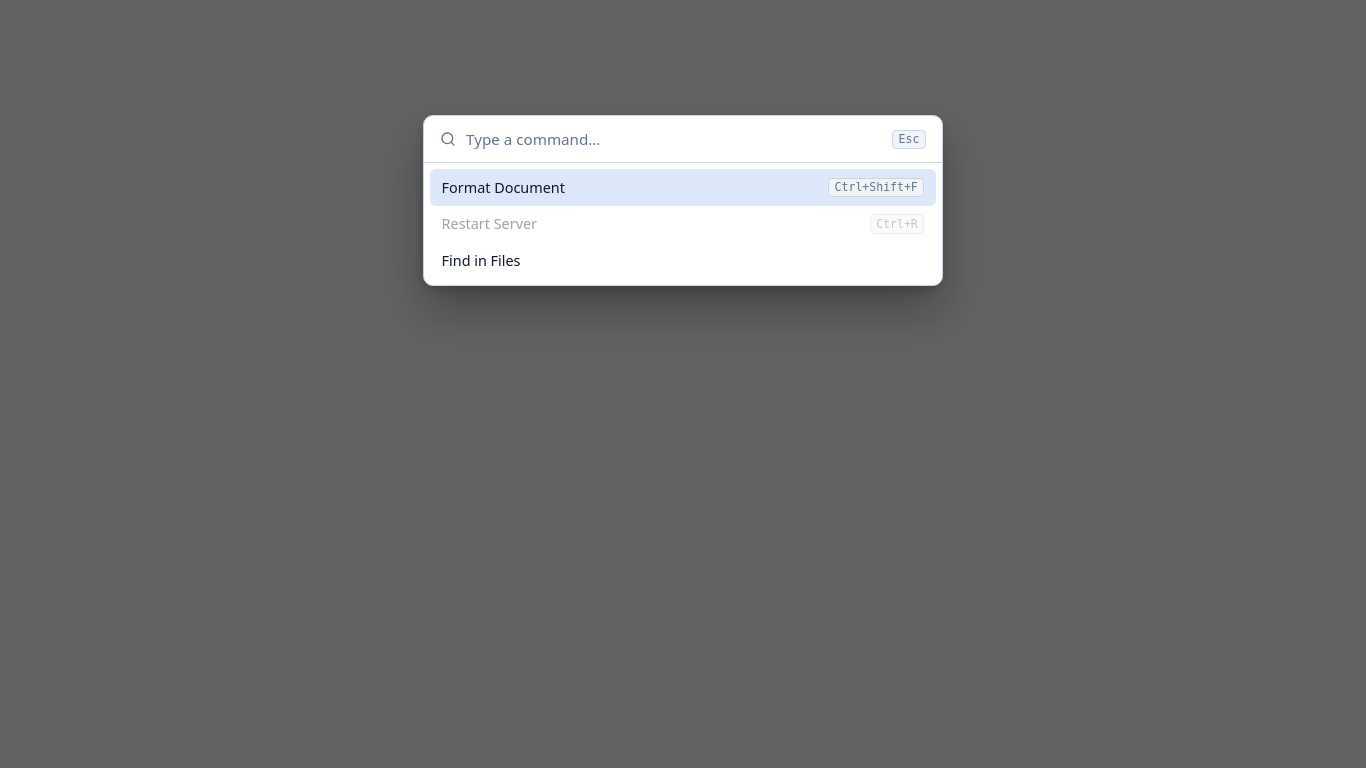
Test case: CommandPalette.svelte › filters commands based on search query
The width and height of the screenshot is (1366, 768).
Type "for" into the field with placeholder "Type a command…" at (674,139), box [464,128,884,150]
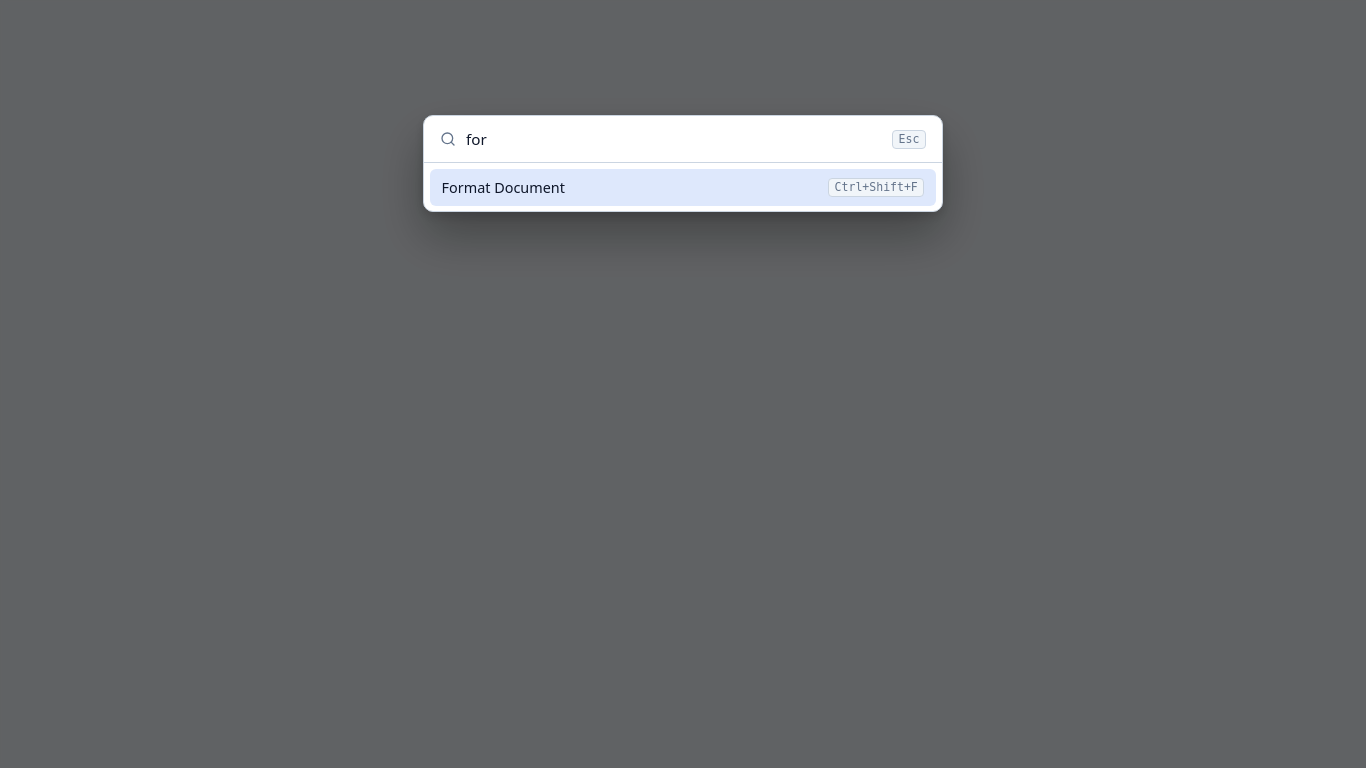
Expected: the text "Format Document" is shown, [442,178,565,197]
Now the option "Restart Server" is gone
Now the option "Find in Files" is gone
